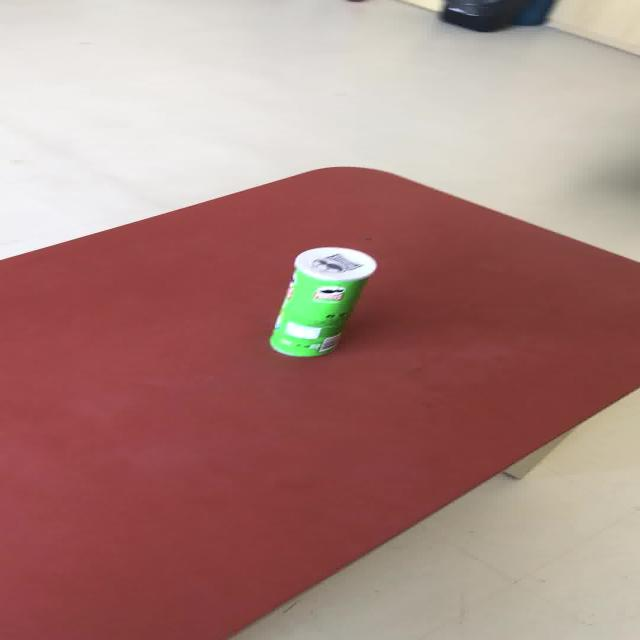pringles: (267, 245, 377, 357)
